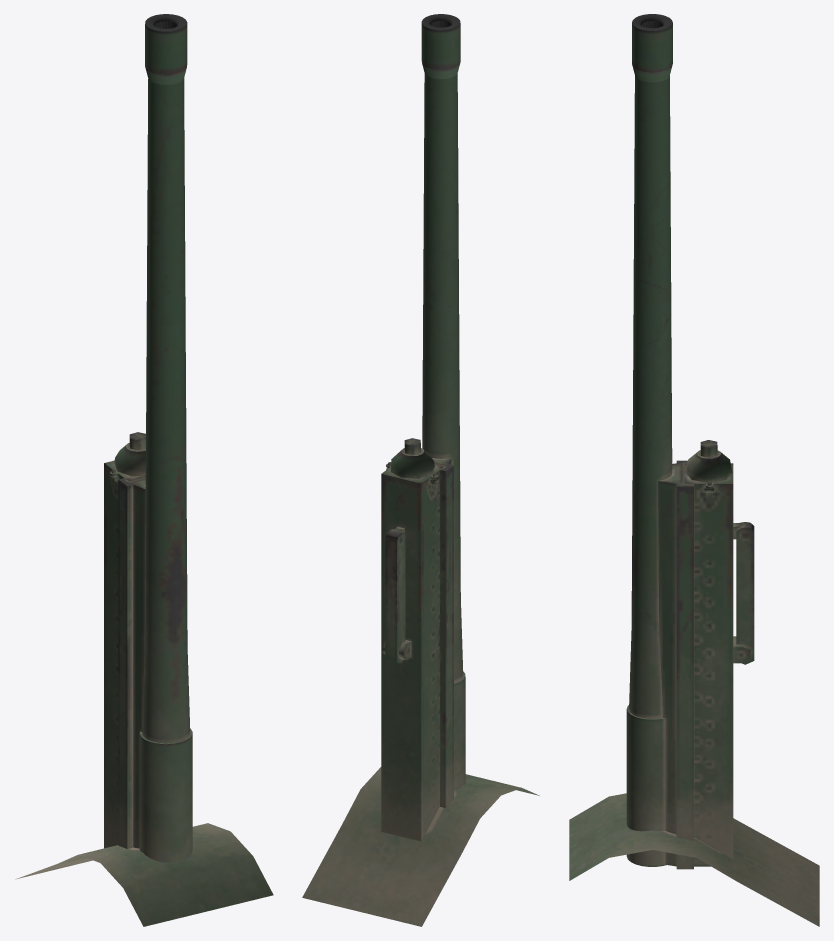
The model's file is Gun_02.glb.
3 views of the same model, side by side, from view 1: azimuth 30°, elevation 25°; view 2: azimuth 150°, elevation 25°; view 3: azimuth 270°, elevation 25° (orthographic). The views are drawn at different scales.
Parts seen in each view (by area): view 1: set_0_group_0; view 2: set_0_group_0; view 3: set_0_group_0.
Boxes of the visible parts, <box> form: set_0_group_0: <box>15,14,273,926</box>; set_0_group_0: <box>302,14,539,926</box>; set_0_group_0: <box>569,14,819,926</box>.
Size of the model in its own units: 0.3058 by 2.03 by 0.5264.
Materials: 1 (1 with a texture image).
